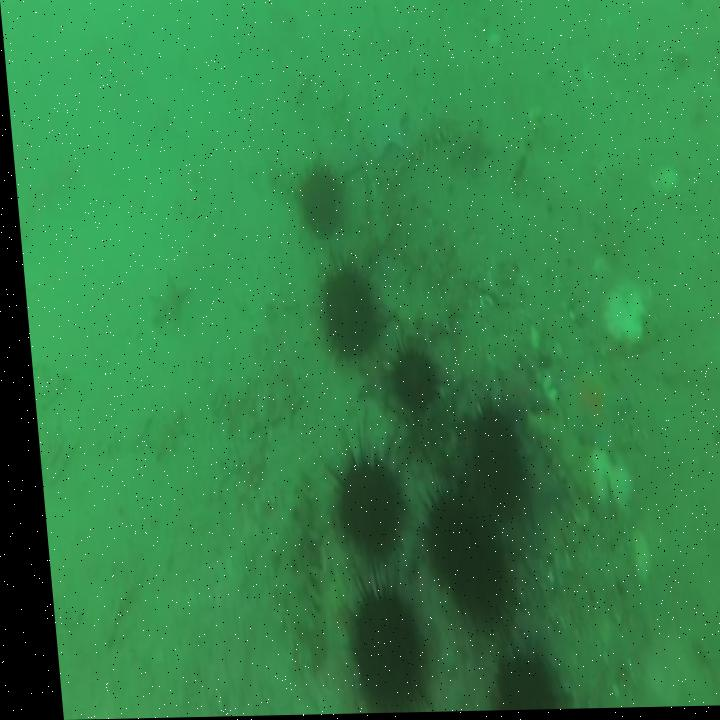echinus: (413, 492, 496, 635), (337, 588, 412, 708), (324, 460, 397, 560), (461, 413, 519, 519), (315, 268, 372, 361), (478, 653, 539, 712), (294, 167, 340, 239), (383, 352, 431, 410)
holothurian: (255, 468, 318, 671), (395, 110, 456, 166)
starfish: (547, 358, 628, 455), (489, 359, 535, 419), (143, 275, 181, 332)
